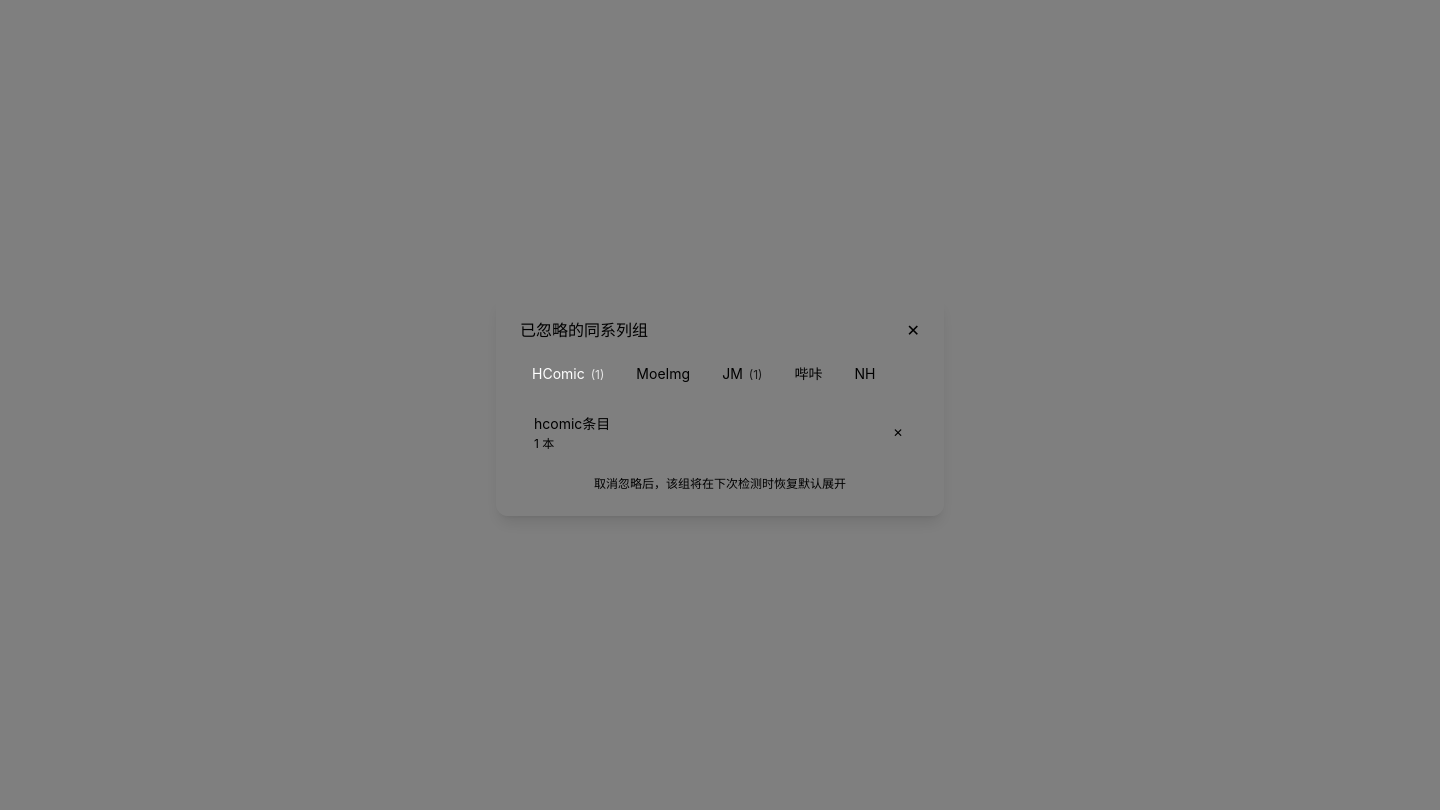
MissingBlacklistManager › switches source via tabs
expect the text "hcomic条目" is shown: met, box [534,415,610,432]
Click the button "JM(1)".
click(742, 374)  # box [710,358,774,390]
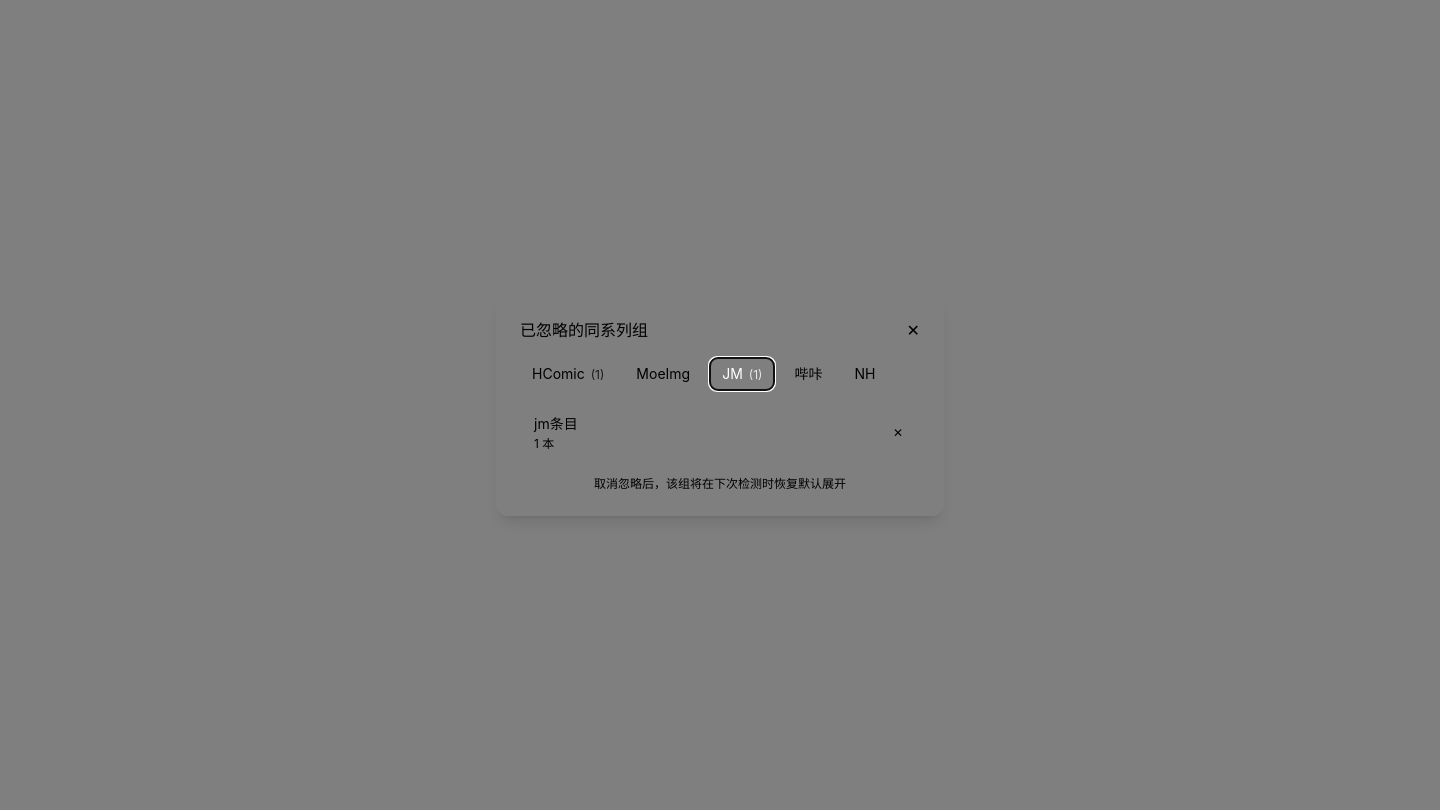
expect the text "jm条目" is shown: met, box [534,415,578,432]
expect the text "hcomic条目" is gone: met
